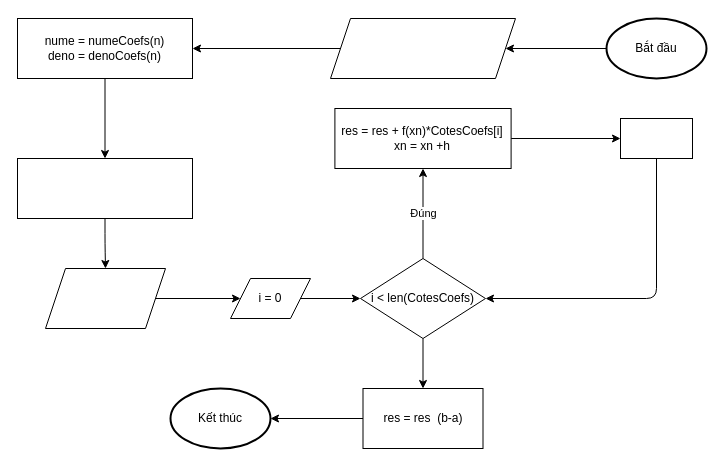
The diagram is 725 pixels wide and 466 high, and some of its shapes have lost their labels. The shapes that lost their labels are listed below. From the top down, each one's box as (x1, y1, x2, y2) in pixels, then its label:
(330, 18, 516, 78): Mảng 1d nume Mảng 1d deno Mảng 1d CotesCoefs
(620, 118, 692, 158): i ++
(16, 158, 192, 218): CotesCoefs = (nume/deno) / n
(44, 268, 166, 328): h = (b-a)/n res = 0 xn = a
